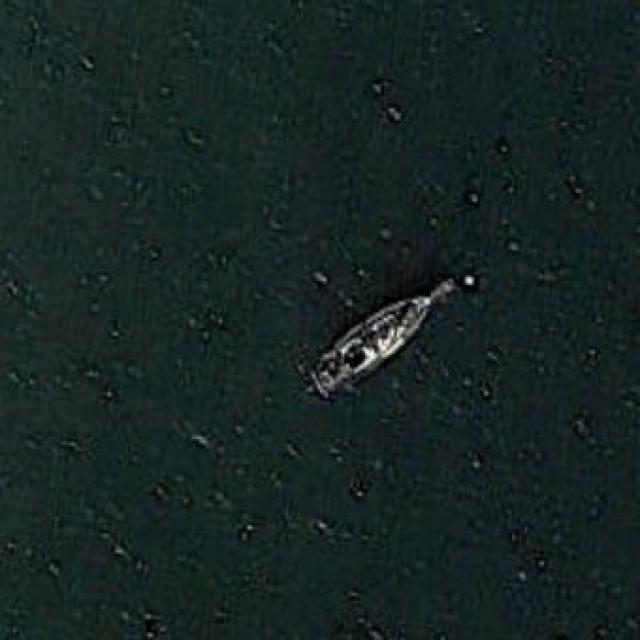boat: (307, 273, 461, 388)
